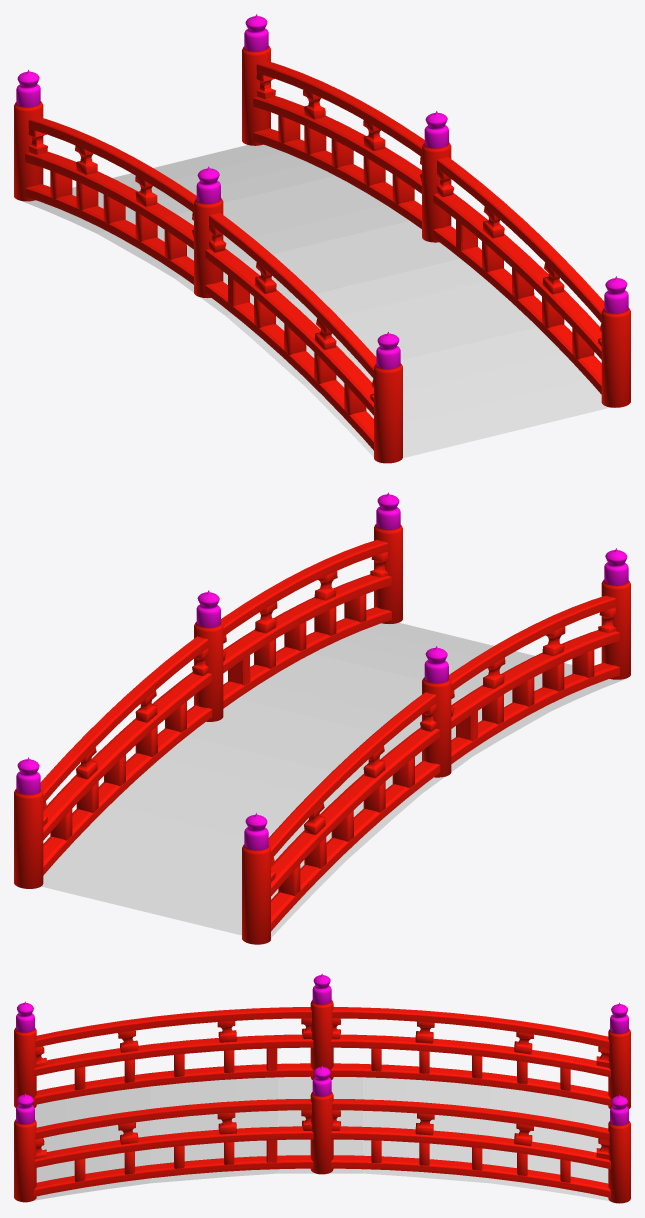
Rendered from Japanese-Bridge.fbx.
3 views of the same model, one above another, from view 1: azimuth 30°, elevation 25°; view 2: azimuth 150°, elevation 25°; view 3: azimuth 270°, elevation 25° (orthographic). The views are drawn at different scales.
Parts seen in each view (by area): view 1: path, Cube.050, Cube.036; view 2: path, Cube.050, Cube.036; view 3: Cube.050, Cube.036, path.
Boxes of the visible parts, x1,y1,x2,y2 form: path: [22, 144, 610, 463]; Cube.050: [242, 14, 630, 407]; Cube.036: [14, 70, 402, 463]; path: [41, 622, 626, 937]; Cube.050: [14, 492, 402, 888]; Cube.036: [242, 548, 630, 944]; Cube.050: [14, 1065, 630, 1203]; Cube.036: [14, 973, 630, 1108]; path: [34, 1076, 610, 1200].
Bounding box in the file's own units: 2068 × 1266 × 5272.
